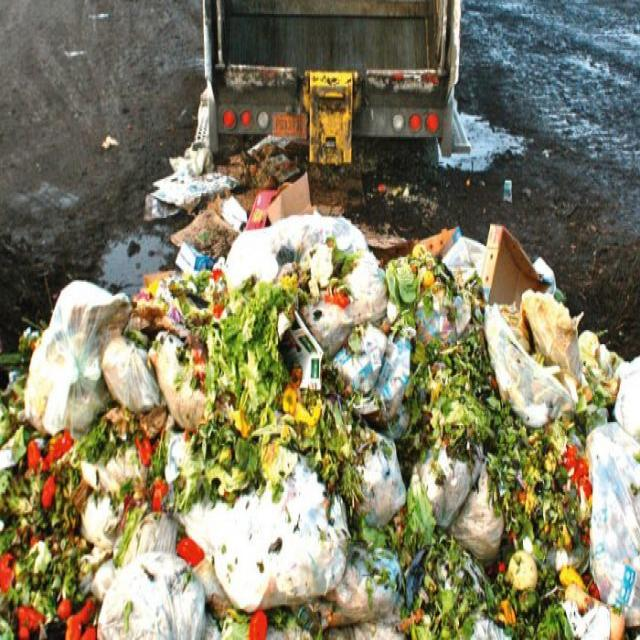Food -Biodegradable-: (0, 208, 640, 640)
